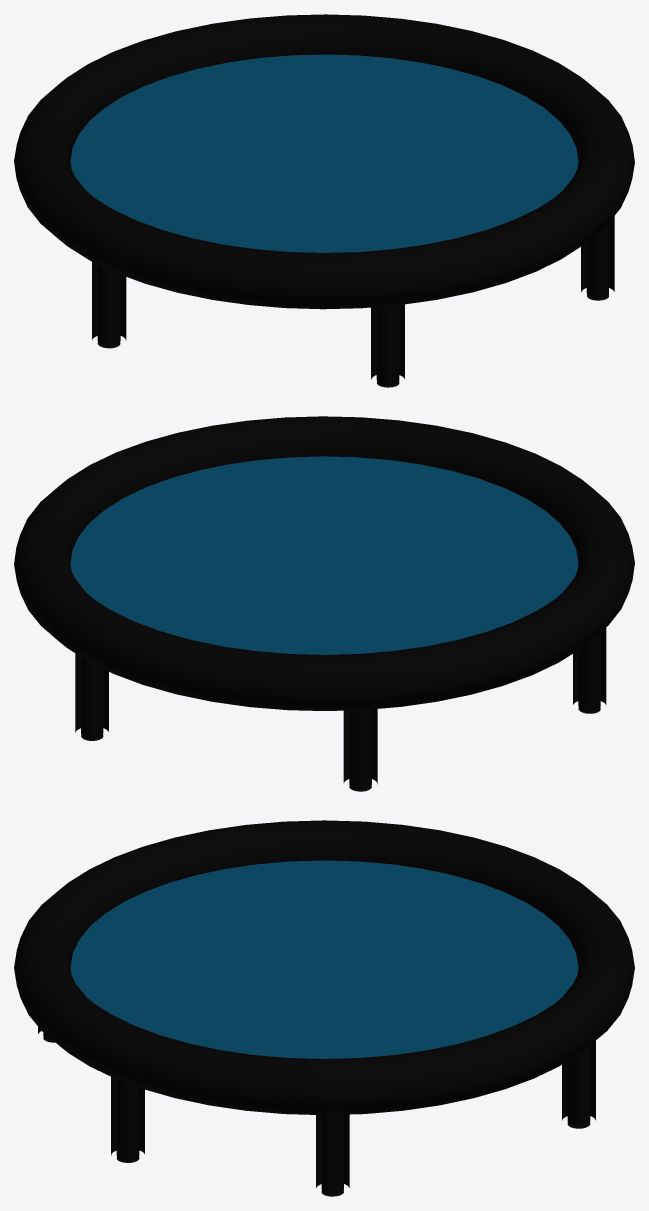
Rendered from Trampoline.fbx.
3 views of the same model, one above another, from view 1: azimuth 30°, elevation 25°; view 2: azimuth 150°, elevation 25°; view 3: azimuth 270°, elevation 25° (orthographic).
Visible parts, largest first — view 1: Top, Legs; view 2: Top, Legs; view 3: Top, Legs.
Part boxes in pixels (box(x1,y1,x2,y2)): Top: box(14, 14, 634, 309); Legs: box(92, 216, 614, 387); Top: box(14, 416, 634, 710); Legs: box(75, 628, 606, 791); Top: box(14, 820, 634, 1115); Legs: box(38, 1027, 595, 1196).
Bounding box in the file's own units: 5.5 × 5.5 × 1.27.
